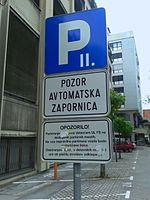Parking Lot Cars: (45, 19, 108, 72)
